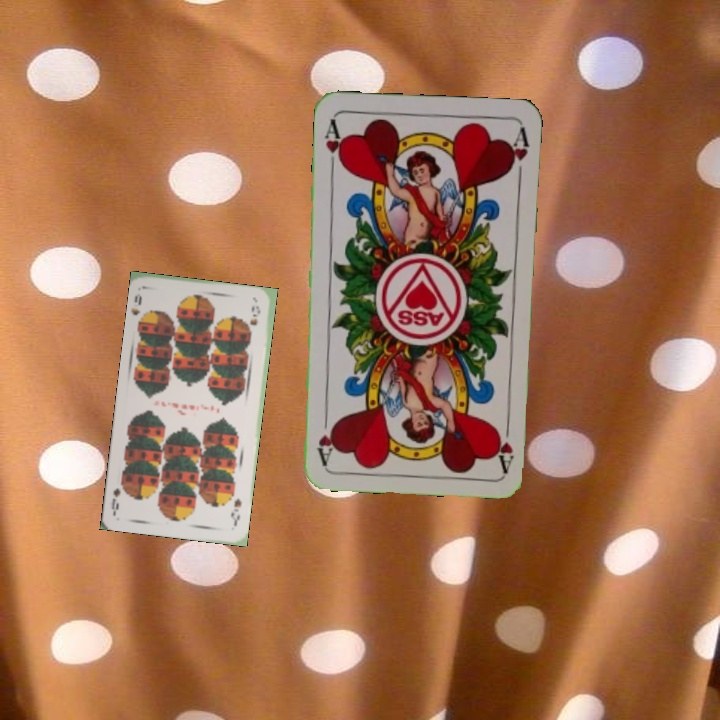HA: (321, 115, 347, 174), (491, 414, 516, 473)
S9: (129, 290, 148, 327), (227, 494, 244, 529)
